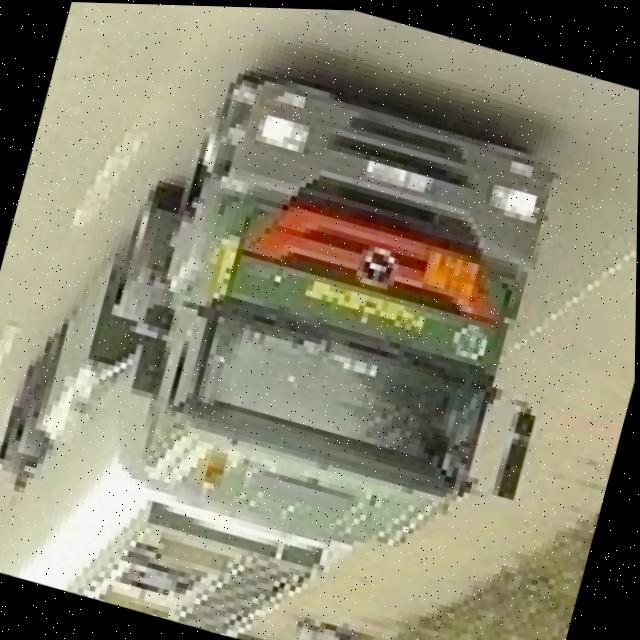truck: (0, 13, 605, 640)
